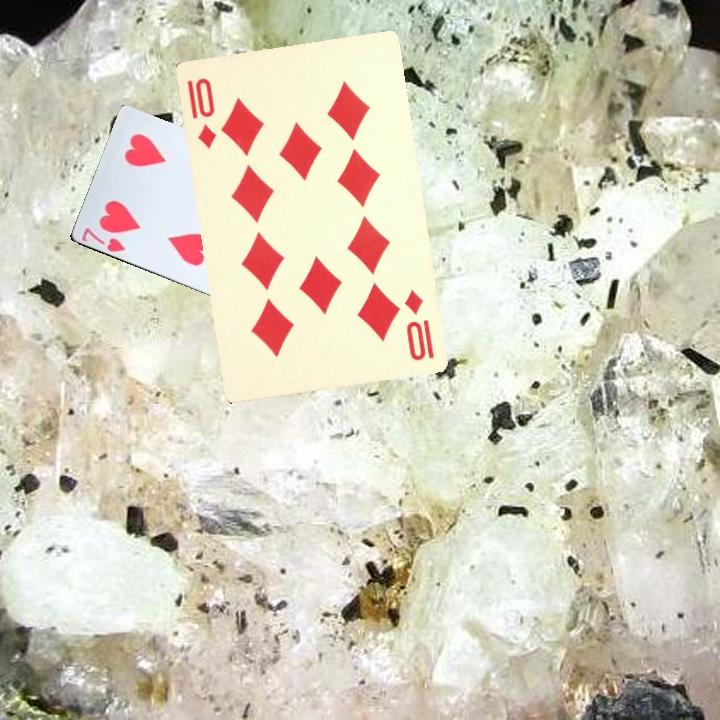10d: (400, 285, 437, 364), (183, 74, 219, 151)
7h: (77, 223, 128, 255)
